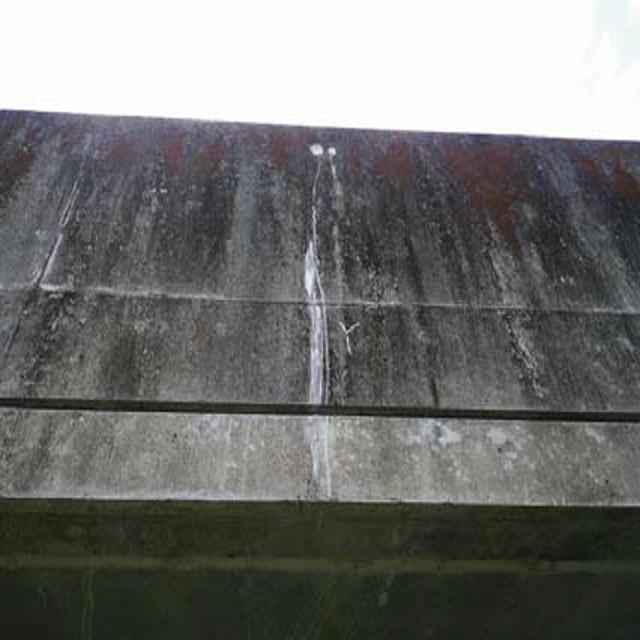freelime: (283, 213, 340, 463)
